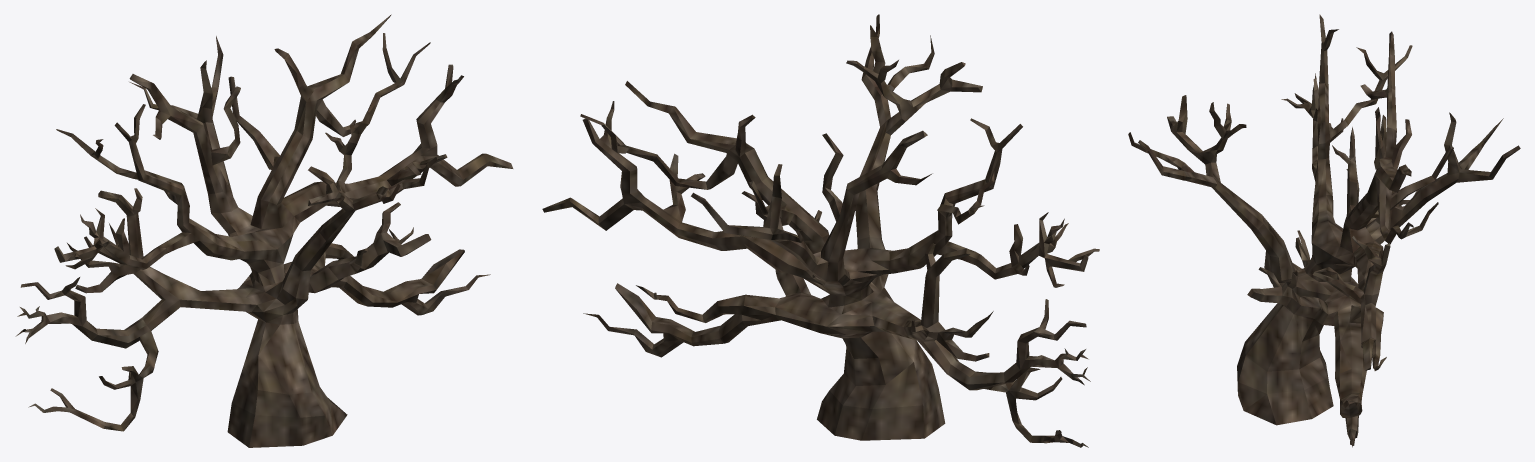
Rendered from Tree12.fbx.
3 views of the same model, side by side, from view 1: azimuth 30°, elevation 25°; view 2: azimuth 150°, elevation 25°; view 3: azimuth 270°, elevation 25° (orthographic). The views are drawn at different scales.
Visible parts, largest first — view 1: tree_12; view 2: tree_12; view 3: tree_12.
Part boxes in pixels (bbox=[...]): tree_12: bbox=[15, 14, 513, 447]; tree_12: bbox=[542, 14, 1099, 447]; tree_12: bbox=[1128, 14, 1520, 447].
Size of the model in its own units: 13.04 by 8.28 by 9.14.
